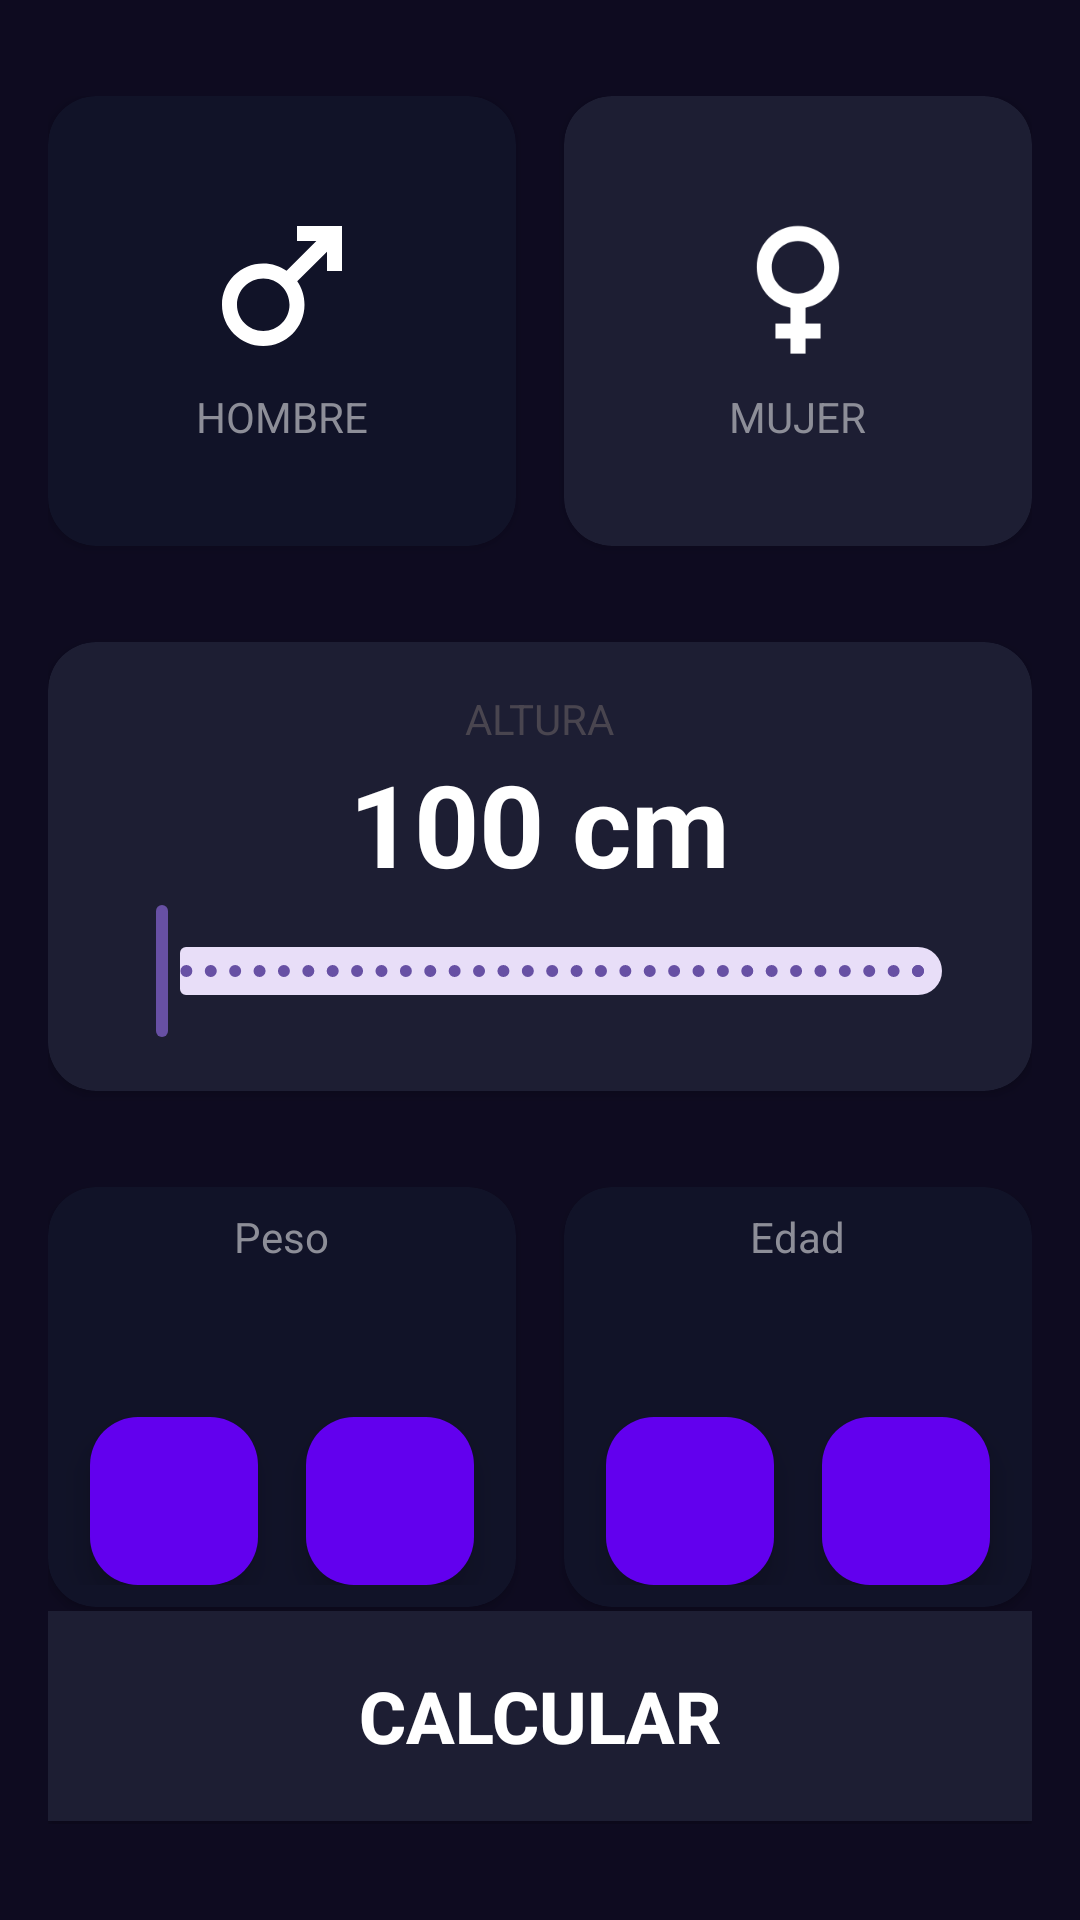

Icon bounding boxes for this 1080px×1920px phone screenshot, format bbox(x1, y1, x2, y2):
female symbol: bbox(756, 225, 840, 354)
male symbol: bbox(222, 226, 342, 346)
